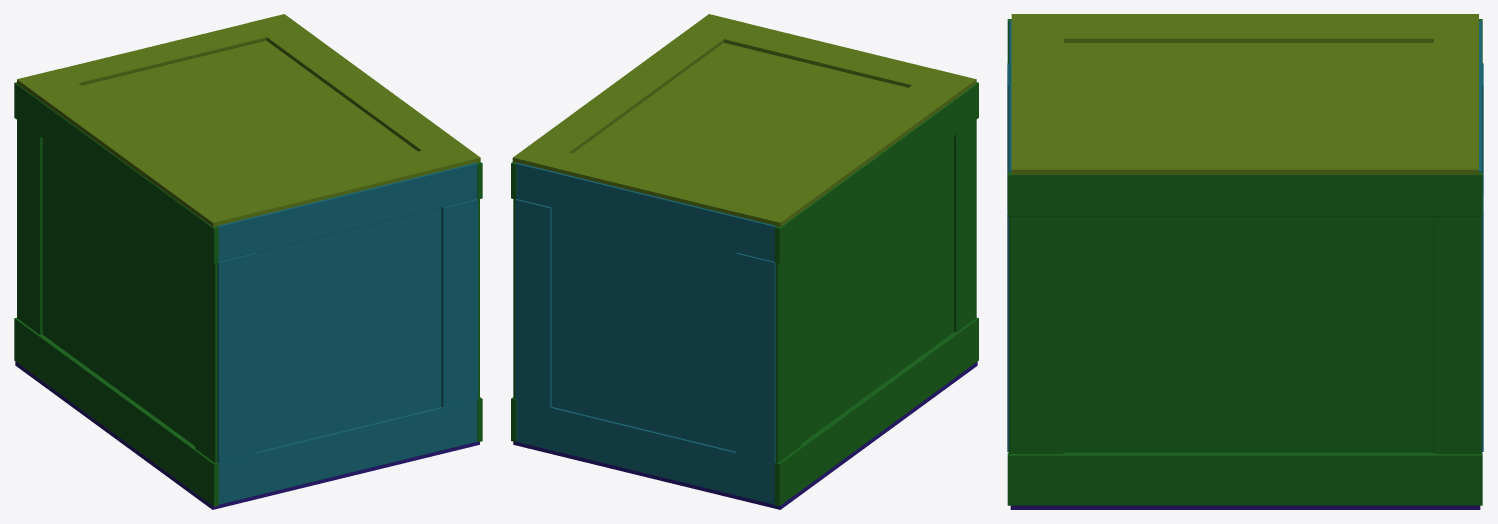
The picture shows the model from 3 angles, left to right: view 1: azimuth 30°, elevation 25°; view 2: azimuth 150°, elevation 25°; view 3: azimuth 270°, elevation 25°; orthographic projection. The views are drawn at different scales.
Parts seen in each view (by area): view 1: lr_box2_lp, lr_box1_lp, fb_box2_lp, fb_box1_lp, t_box2_lp, t_box1_lp, b_box_lp; view 2: lr_box2_lp, lr_box1_lp, fb_box2_lp, fb_box1_lp, t_box2_lp, t_box1_lp, b_box_lp; view 3: fb_box2_lp, fb_box1_lp, t_box2_lp, t_box1_lp, lr_box1_lp, b_box_lp.
Boxes of the visible parts, x1,y1,x2,y2 form: lr_box2_lp: [256, 207, 441, 451]; lr_box1_lp: [217, 163, 477, 504]; fb_box2_lp: [42, 139, 195, 445]; fb_box1_lp: [14, 82, 482, 506]; t_box2_lp: [82, 40, 417, 196]; t_box1_lp: [17, 14, 480, 227]; b_box_lp: [15, 361, 479, 509]; lr_box2_lp: [552, 207, 736, 451]; lr_box1_lp: [515, 162, 775, 504]; fb_box2_lp: [801, 136, 953, 443]; fb_box1_lp: [511, 82, 978, 506]; t_box2_lp: [573, 43, 907, 198]; t_box1_lp: [512, 14, 976, 226]; b_box_lp: [513, 361, 977, 509]; fb_box2_lp: [1064, 216, 1433, 452]; fb_box1_lp: [1007, 19, 1482, 505]; t_box2_lp: [1064, 43, 1433, 147]; t_box1_lp: [1011, 14, 1478, 174]; lr_box1_lp: [1007, 21, 1483, 452]; b_box_lp: [1010, 505, 1480, 509].
Bounding box in the file's own units: 14.62 × 14.91 × 18.85.
